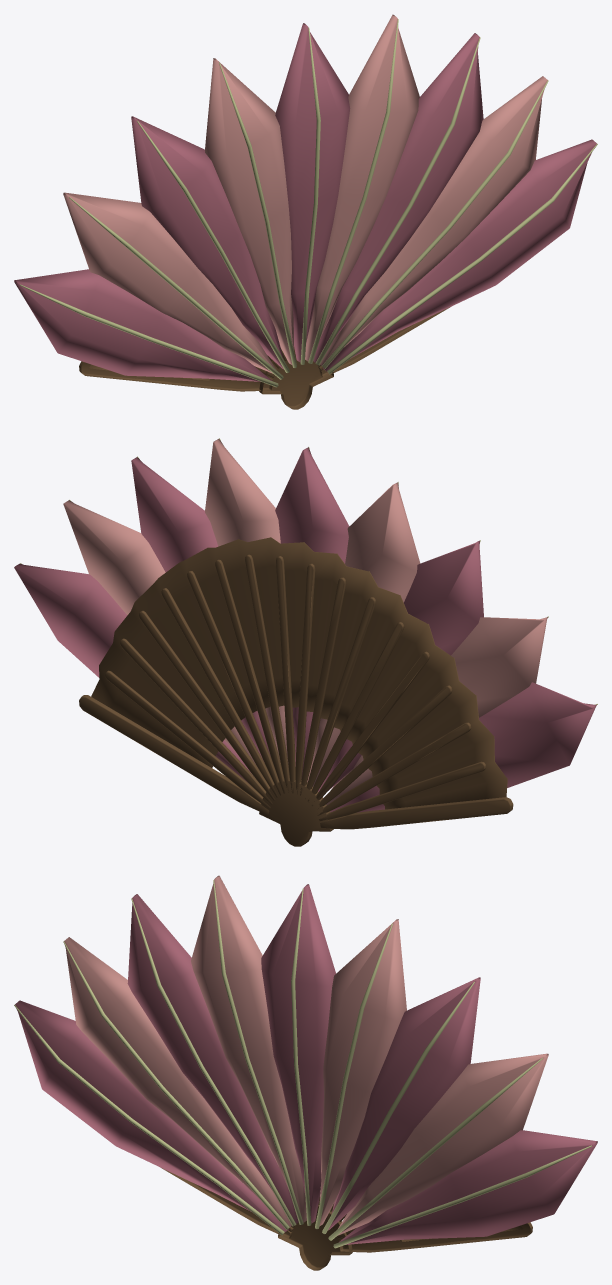
Rendered from petal_fan.glb.
The picture shows the model from 3 angles, top to bottom: view 1: azimuth 30°, elevation 25°; view 2: azimuth 150°, elevation 25°; view 3: azimuth 330°, elevation 25°; orthographic projection.
Visible parts, largest first — view 1: PetalFan; view 2: PetalFan; view 3: PetalFan.
Part boxes in pixels (left/top/right/bottom): PetalFan: left=14, top=14, right=597, bottom=409; PetalFan: left=14, top=438, right=597, bottom=846; PetalFan: left=14, top=875, right=597, bottom=1270.
Size of the model in its own units: 1.14 by 0.7326 by 0.0858.
